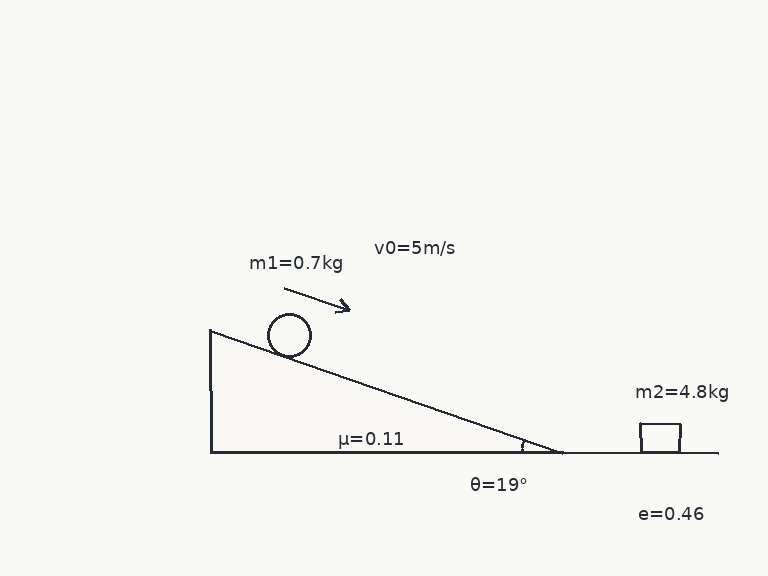ball: (265, 311, 313, 359)
block: (638, 421, 682, 454)
ramp: (208, 329, 564, 454)
